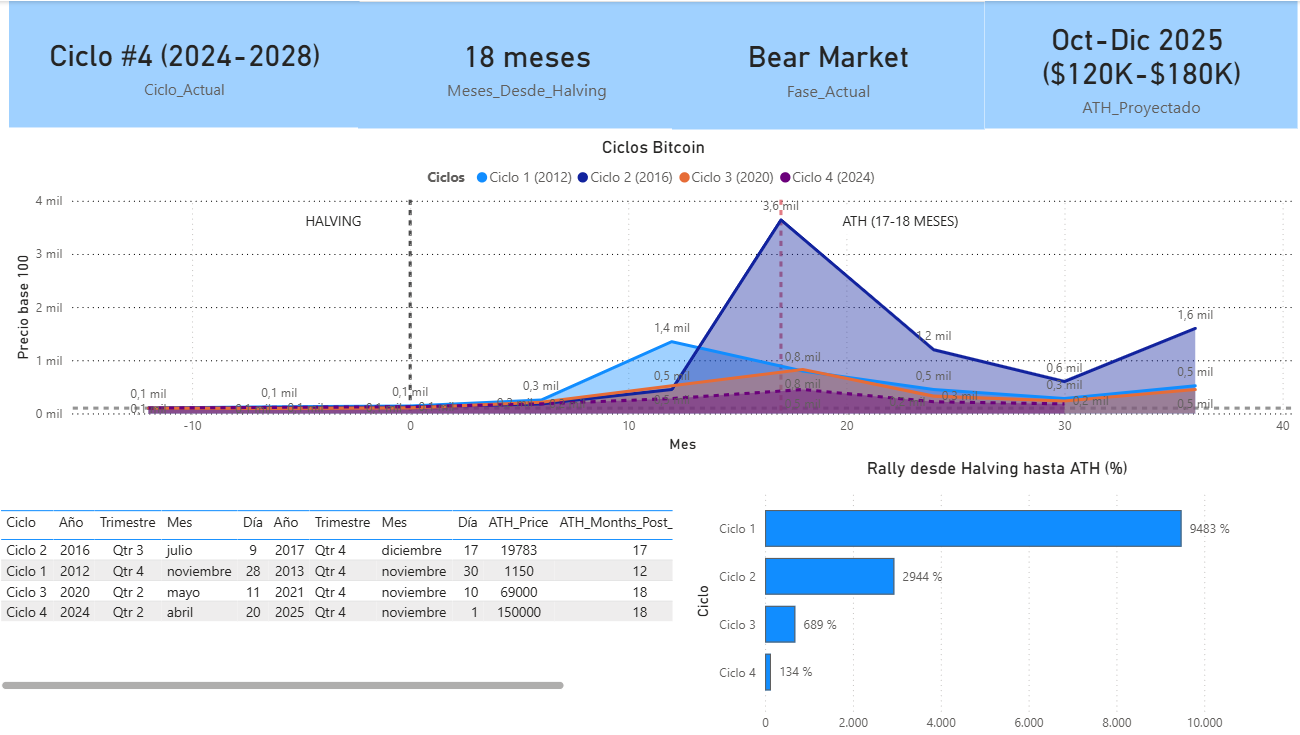

The dashboard page shown, as its layout file describes it:
{"tool":"powerbi","page":{"name":"CICLOS BITCOIN","canvas":[1280,720],"ordinal":5},"visuals":[{"type":"lineChart","title":"Ciclos Bitcoin","fields":{"Y":["Sum(Ciclos_Superposición.Precio_Normalizado)"],"Category":["Ciclos_Superposición.Mes"],"Series":["Ciclos_Superposición.Ciclo"]},"box":[19.5,132.3,1253.7,312.2],"z":0},{"type":"textbox","box":[302.5,199.4,71,28.2],"z":2000},{"type":"textbox","box":[824.8,199.4,124.5,28.2],"z":3000},{"type":"tableEx","fields":{"Values":["Ciclos_Bitcoin.Ciclo","Ciclos_Bitcoin.Halving_Date.Variación.Jerarquía de fechas.Año","Ciclos_Bitcoin.Halving_Date.Variación.Jerarquía de fechas.Trimestre","Ciclos_Bitcoin.Halving_Date.Variación.Jerarquía de fechas.Mes","Ciclos_Bitcoin.Halving_Date.Variación.Jerarquía de fechas.Día","Ciclos_Bitcoin.ATH_Date.Variación.Jerarquía de fechas.Año","Ciclos_Bitcoin.ATH_Date.Variación.Jerarquía de fechas.Trimestre","Ciclos_Bitcoin.ATH_Date.Variación.Jerarquía de fechas.Mes","Ciclos_Bitcoin.ATH_Date.Variación.Jerarquía de fechas.Día","Ciclos_Bitcoin.ATH_Price","Ciclos_Bitcoin.ATH_Months_Post_Halving","Ciclos_Bitcoin.Drawdown"]},"box":[5.8,490.2,664.3,184.8],"z":4000},{"type":"card","fields":{"Values":["01_daily_data.Ciclo_Actual"]},"box":[19.5,0,341.4,122.6],"z":5000},{"type":"card","fields":{"Values":["Ciclos_Bitcoin.Meses_Desde_Halving"]},"box":[358.9,1,328.8,122.6],"z":6000},{"type":"card","fields":{"Values":["Ciclos_Bitcoin.Fase_Actual"]},"box":[664.3,1,304.4,123.5],"z":7000},{"type":"card","fields":{"Values":["Ciclos_Bitcoin.ATH_Proyectado"]},"box":[968.8,0,304.4,124.5],"z":8000},{"type":"clusteredBarChart","title":"Rally desde Halving hasta ATH (%)","fields":{"Category":["Ciclos_Bitcoin.Ciclo"],"Y":["Ciclos_Bitcoin.Rally_Halving_ATH","select"]},"box":[680.9,444.5,599.1,275.3],"z":9000}]}

Visuals, with their boxes in screenshot pixels (x1, y1, x2, y2), scaled from the page's 1280x720 canvas onto the 1300x735 screenshot:
"Ciclos Bitcoin" lineChart: [left=20, top=135, right=1293, bottom=454]
textbox: [left=307, top=204, right=379, bottom=232]
textbox: [left=838, top=204, right=964, bottom=232]
tableEx - Ciclos_Bitcoin.Ciclo x Ciclos_Bitcoin.Halving_Date.Variación.Jerarquía de fechas.Año: [left=6, top=500, right=681, bottom=689]
card - 01_daily_data.Ciclo_Actual: [left=20, top=0, right=367, bottom=125]
card - Ciclos_Bitcoin.Meses_Desde_Halving: [left=365, top=1, right=698, bottom=126]
card - Ciclos_Bitcoin.Fase_Actual: [left=675, top=1, right=984, bottom=127]
card - Ciclos_Bitcoin.ATH_Proyectado: [left=984, top=0, right=1293, bottom=127]
"Rally desde Halving hasta ATH (%)" clusteredBarChart: [left=692, top=454, right=1299, bottom=734]
